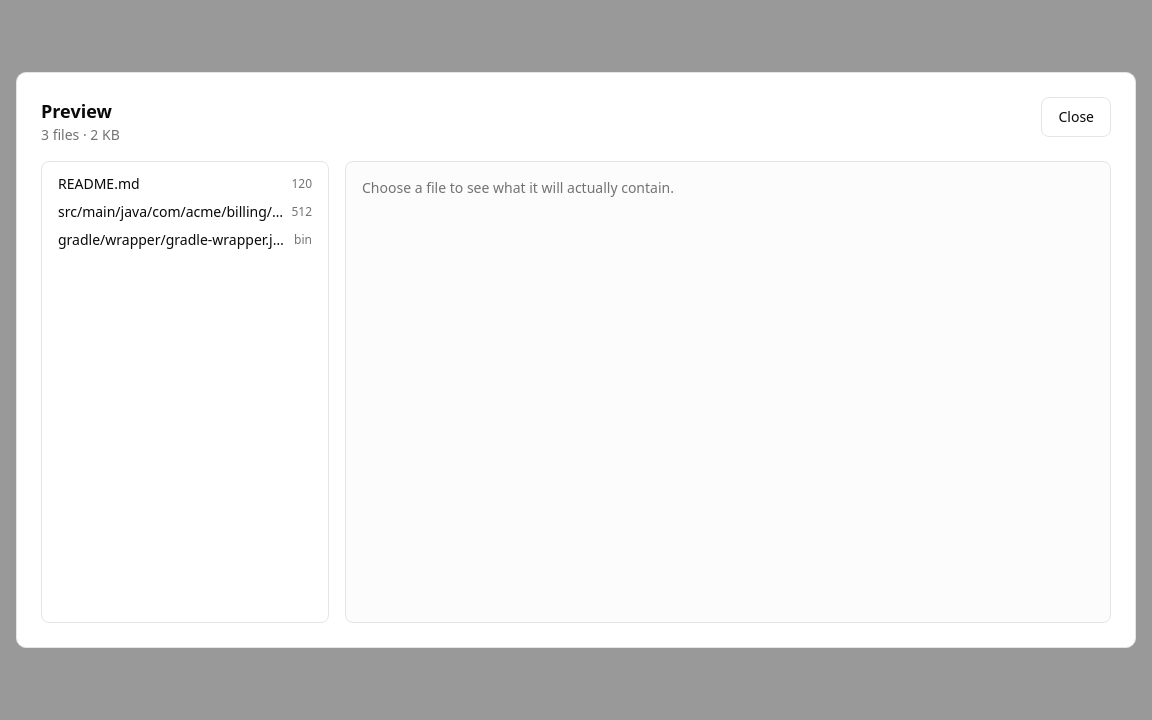
Test: PreviewDialog › shows the rendered content of the file that was clicked
Expected: the text "README.md" is shown, [58,174,140,194]
Click the button "src/main/java/com/acme/billing/Thing.java 512". click: click(185, 212)
box: [50,198,320,226]
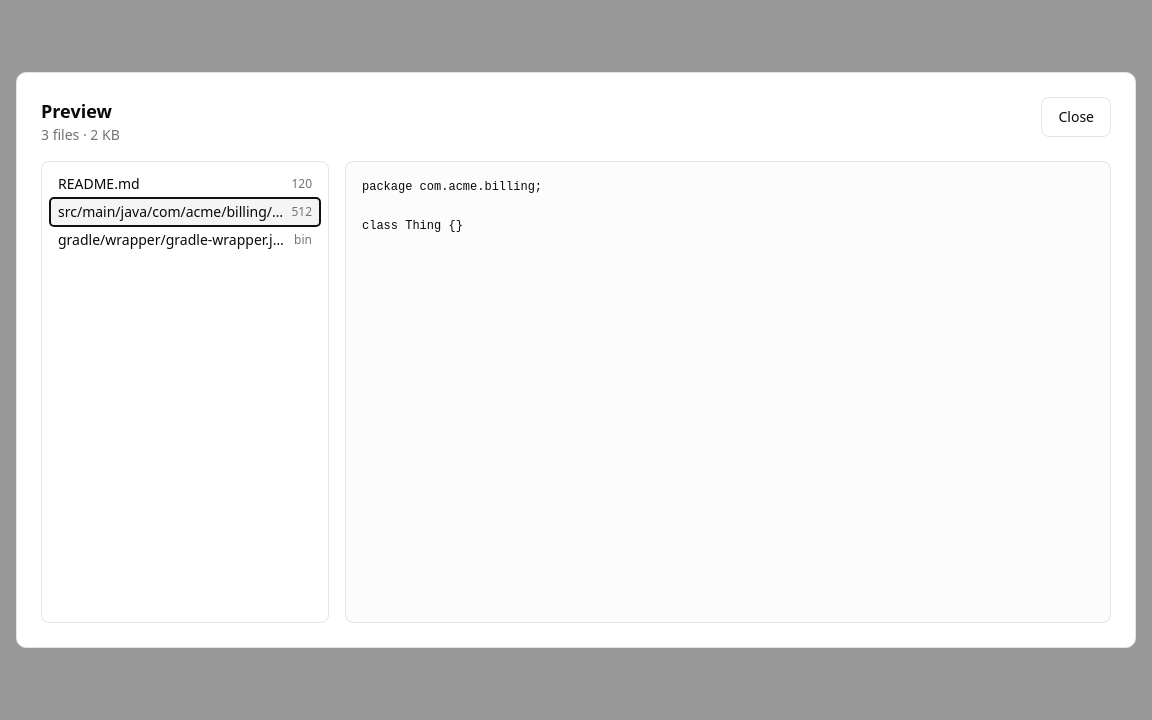
Result: the element with test id "preview-content" shows "package com.acme.billing;" at [362,180,542,233]
